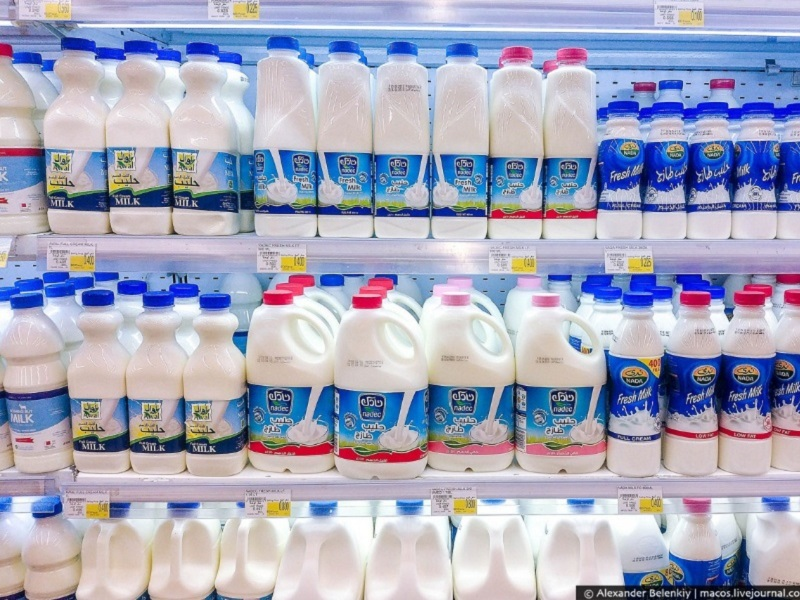milk: (326, 297, 427, 484), (96, 39, 188, 240), (422, 293, 522, 477), (246, 35, 335, 239), (241, 292, 338, 479), (518, 297, 617, 480), (34, 39, 122, 242), (361, 42, 447, 247), (164, 45, 249, 240), (307, 41, 388, 241), (1, 292, 81, 479), (425, 42, 495, 248), (483, 45, 555, 243), (179, 293, 255, 479), (539, 46, 607, 247), (69, 289, 141, 476), (661, 290, 732, 479), (715, 290, 782, 482), (127, 295, 193, 480), (611, 289, 669, 477)
